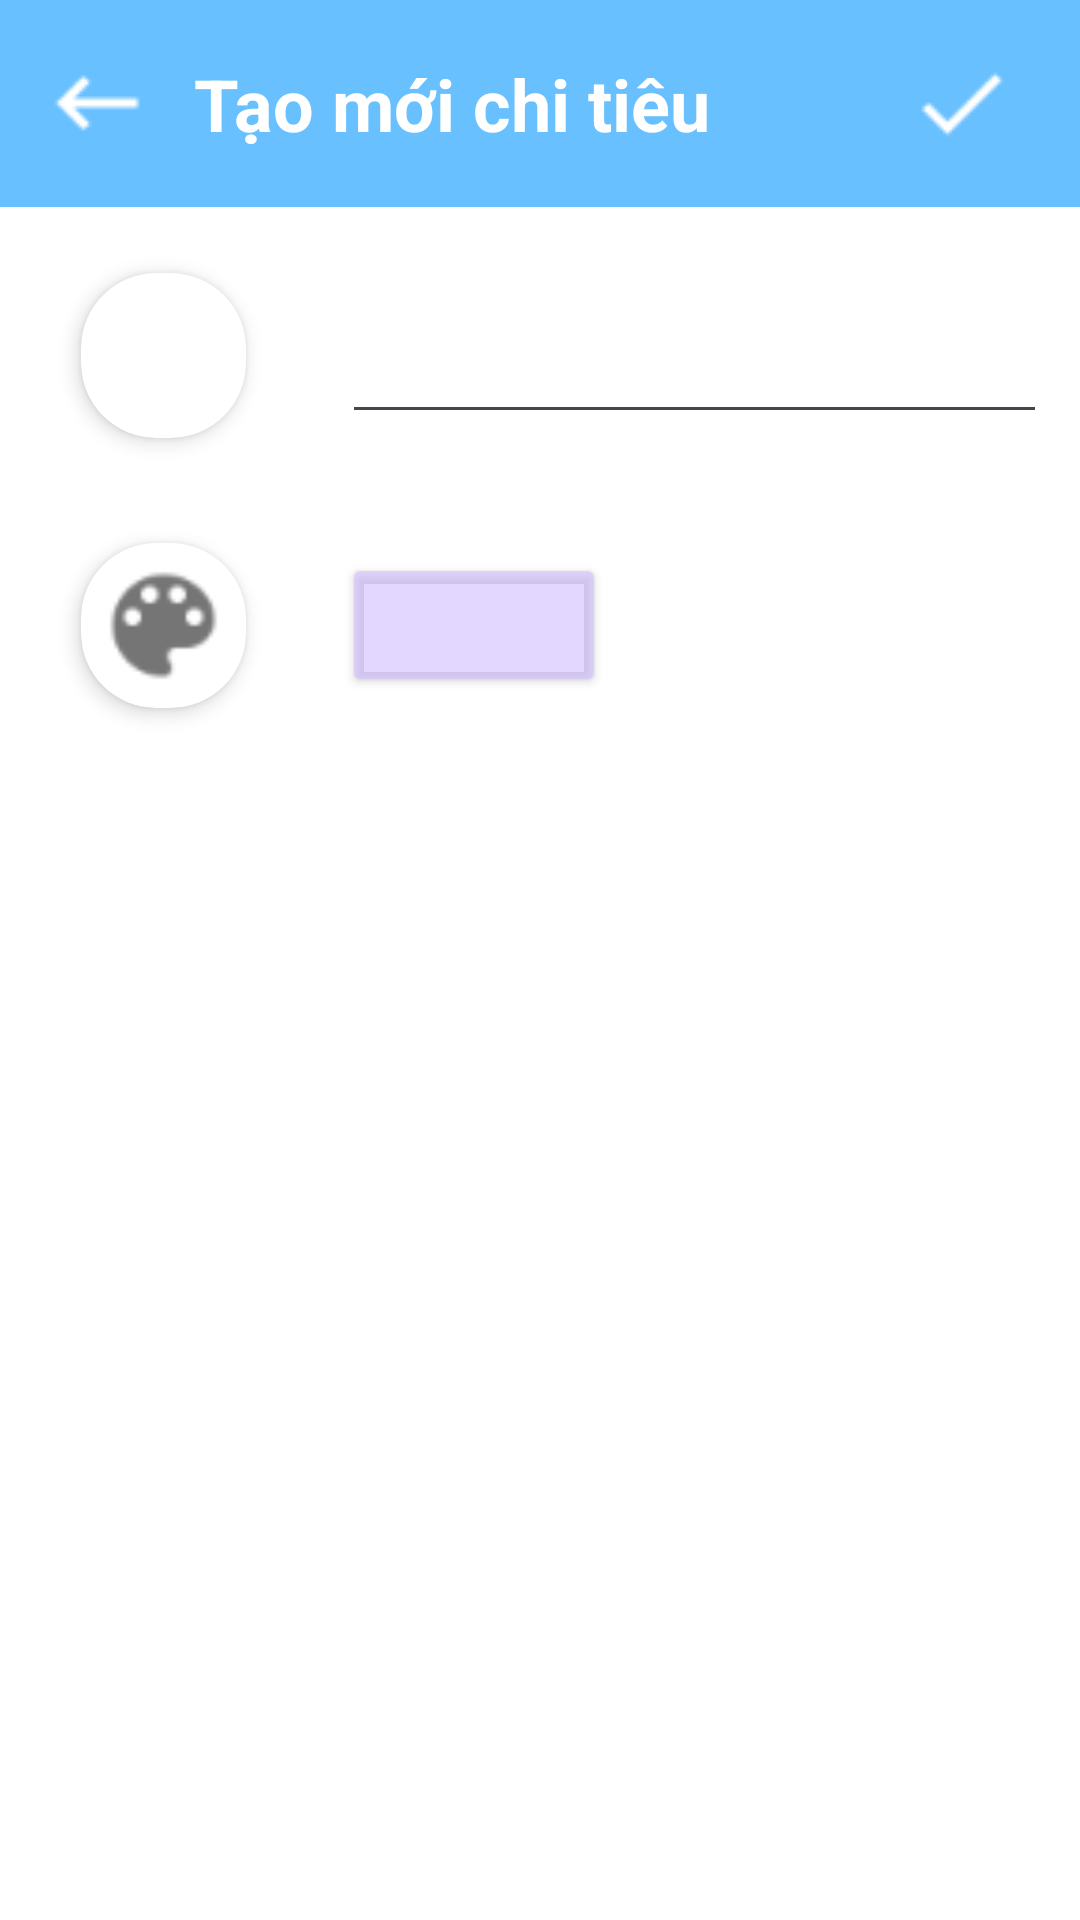

Icons on this 1080*1920 Android screen, each with its box as (x1, y1, x2, y2):
done: (922, 73, 1002, 135)
quaylai: (56, 75, 140, 131)
